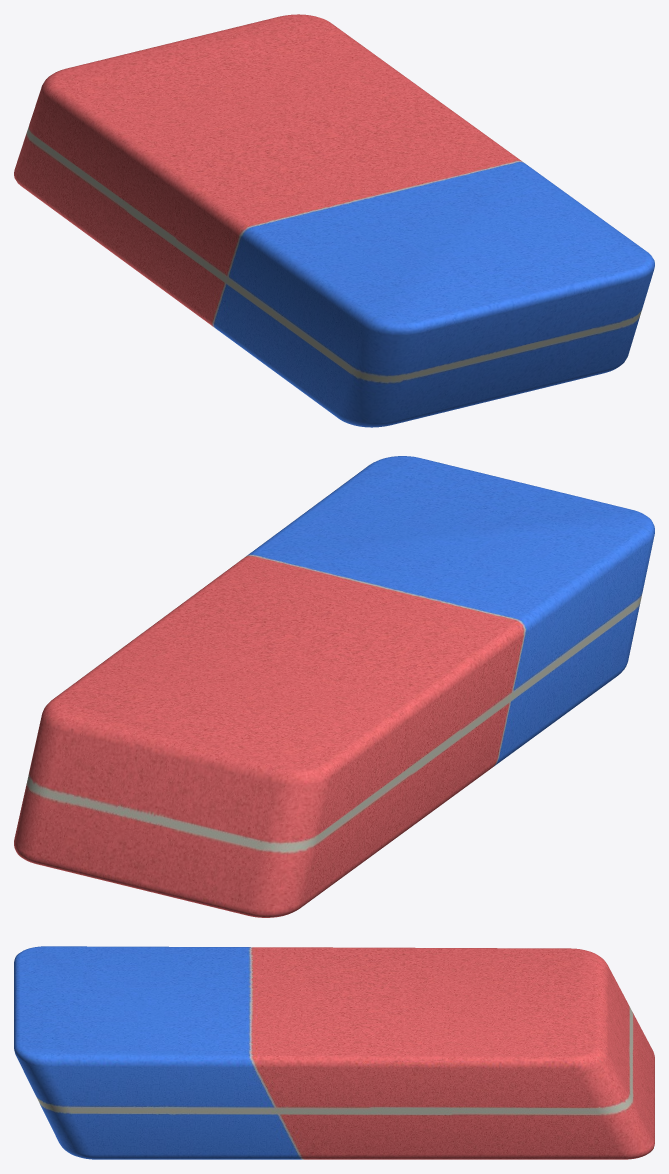
File: Goma.fbx
3 renders of one model, top to bottom at view 1: azimuth 30°, elevation 25°; view 2: azimuth 150°, elevation 25°; view 3: azimuth 270°, elevation 25°, orthographic. The views are drawn at different scales.
Parts seen in each view (by area): view 1: Cube.001; view 2: Cube.001; view 3: Cube.001.
Part boxes in pixels (x1,y1,x2,y2): Cube.001: [14, 14, 654, 427]; Cube.001: [14, 456, 654, 917]; Cube.001: [14, 946, 654, 1159].
Size of the model in its own units: 105 by 44.71 by 248.
